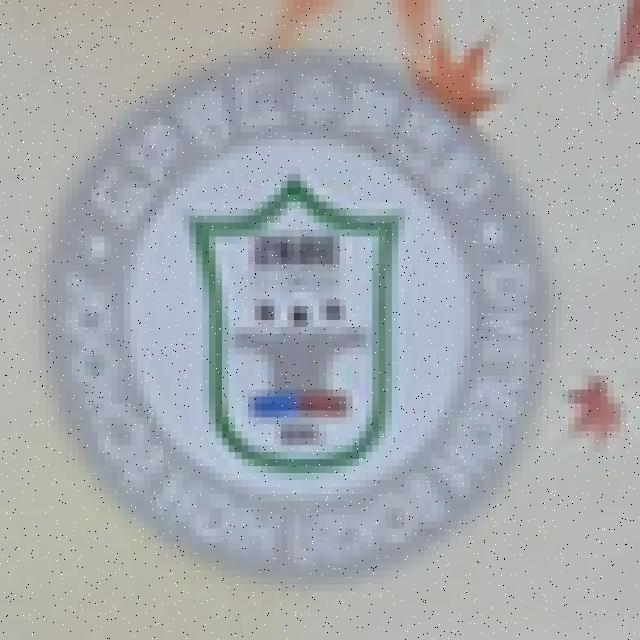logo: (24, 41, 554, 588)
